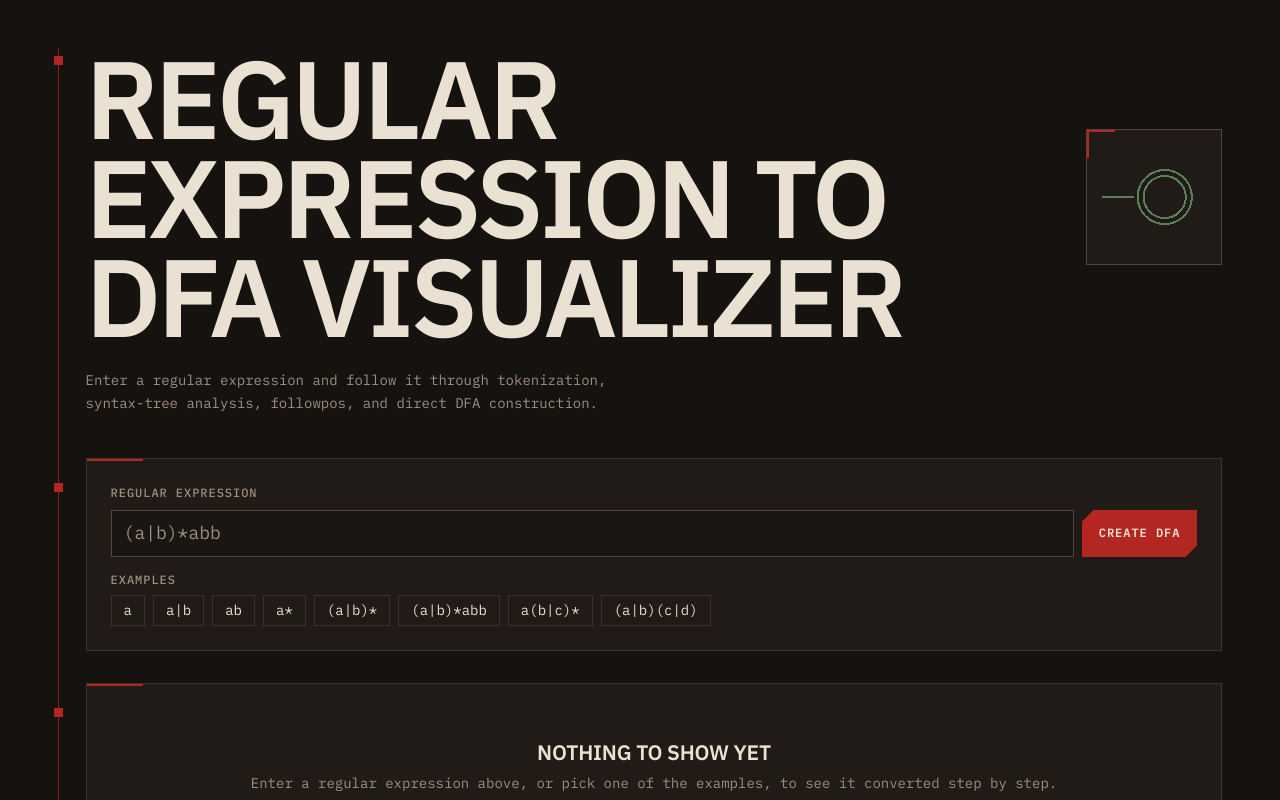
Scenario: application shell & complete user journey › surfaces a compiler failure as a user-facing message, links aria-describedby, and clears on typing or Dismiss
The width and height of the screenshot is (1280, 800).
Step 1. Type "(a|b" into the field labelled "Regular expression" → (592, 534), box [111,510,1074,557]
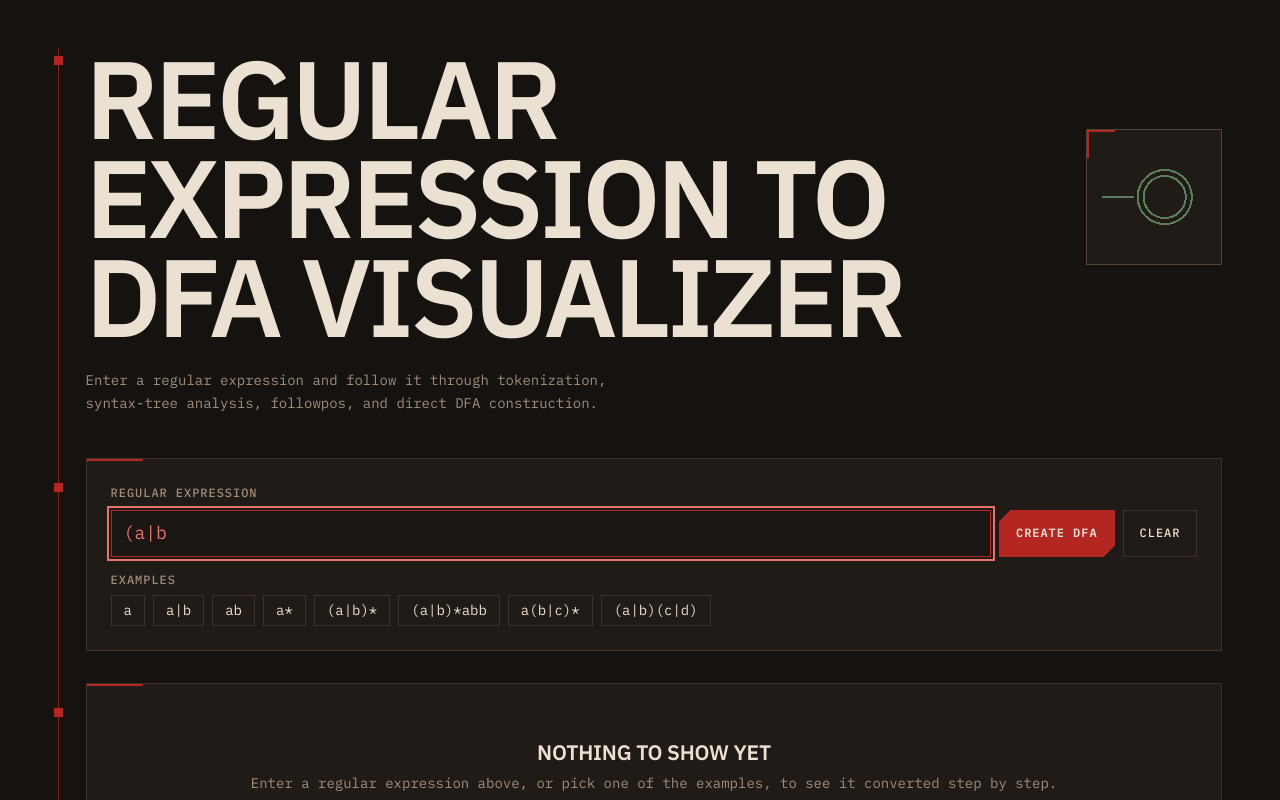
Step 2. Click the button with aria-label "convert" → click(1057, 534), box [999,510,1115,557]
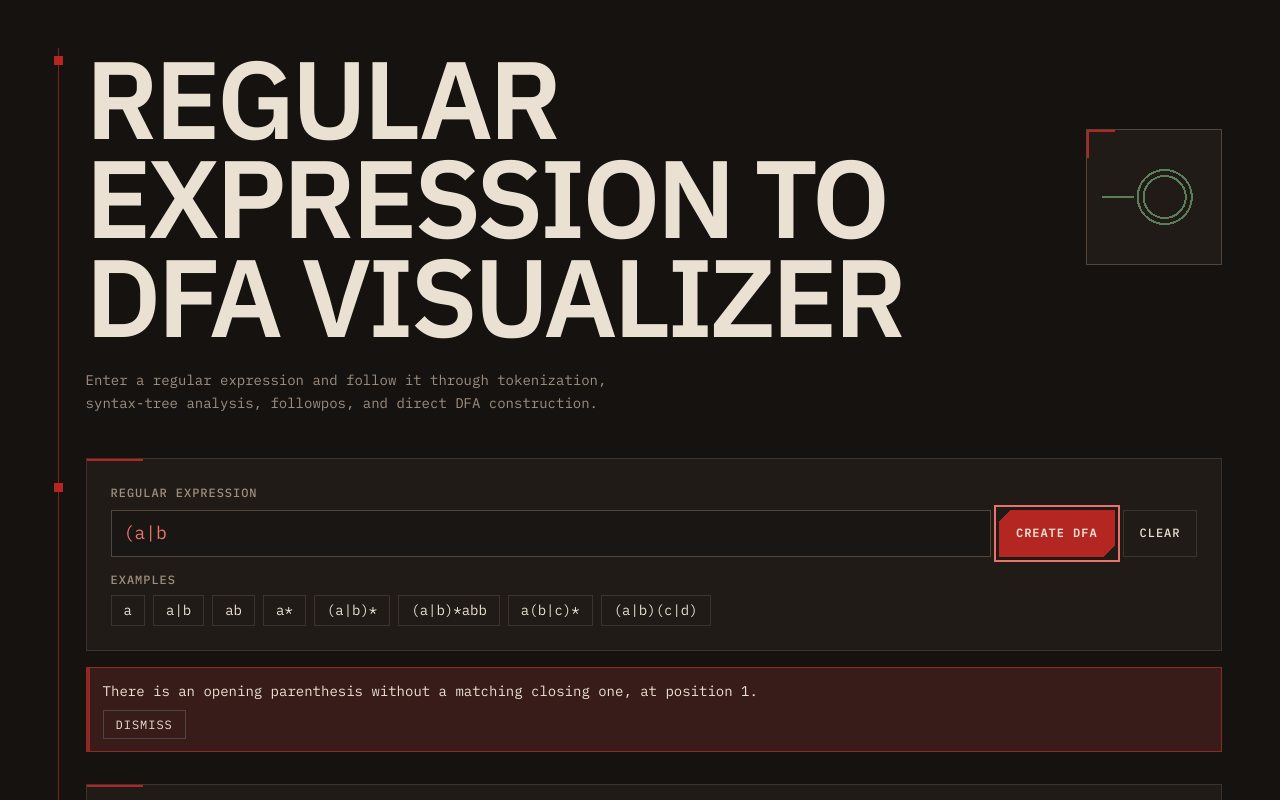
Result: the message is shown at [86,667,1222,752]
Result: the message shows "parenthesis" at [103,682,758,700]
Typing clears stale error automatically
Step 3. Type ")" into the field labelled "Regular expression" → (551, 534), box [111,510,991,557]
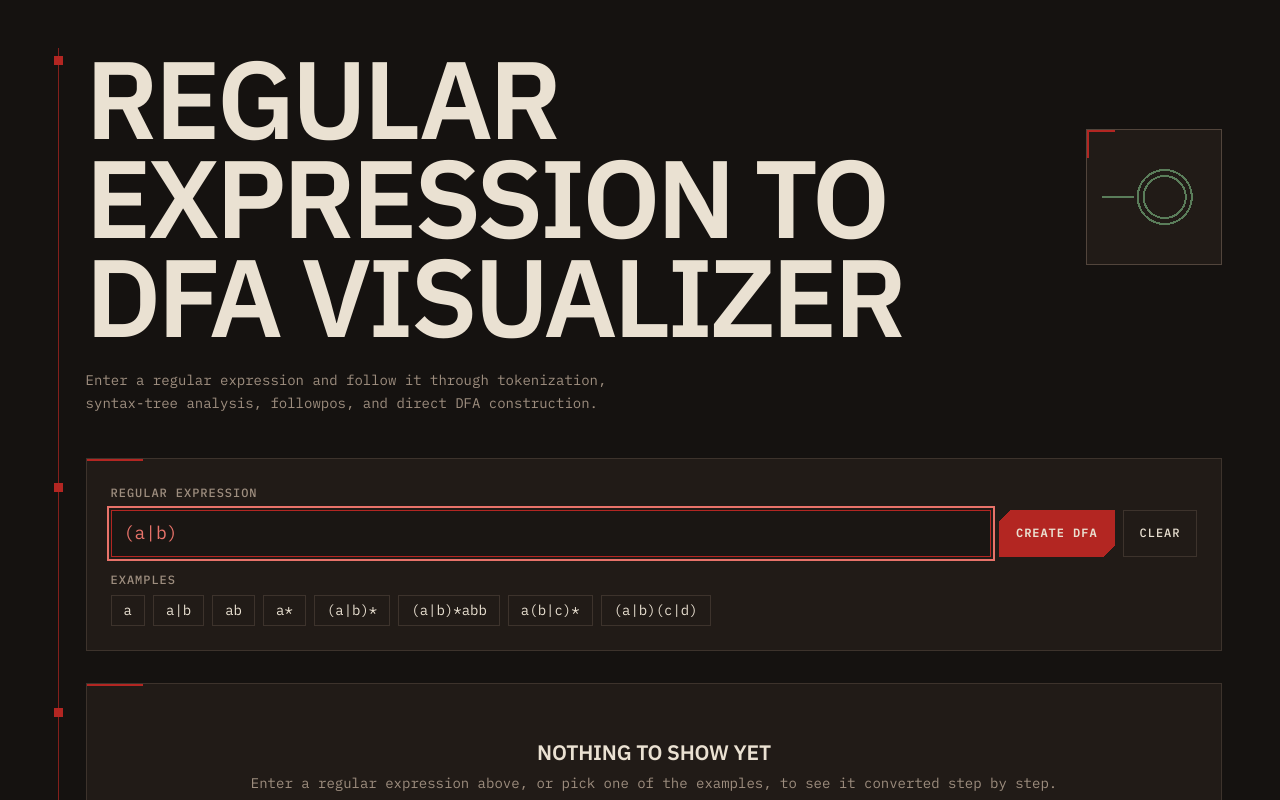
Result: the message is gone
